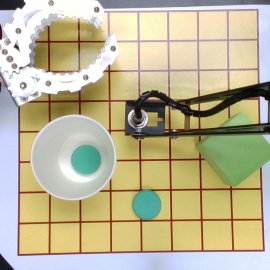cup_green: (30, 114, 118, 202)
green: (132, 190, 162, 220)
